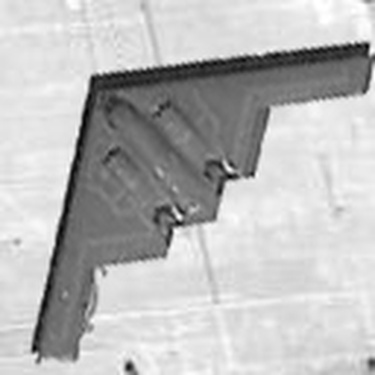airplane: (17, 5, 371, 373)
